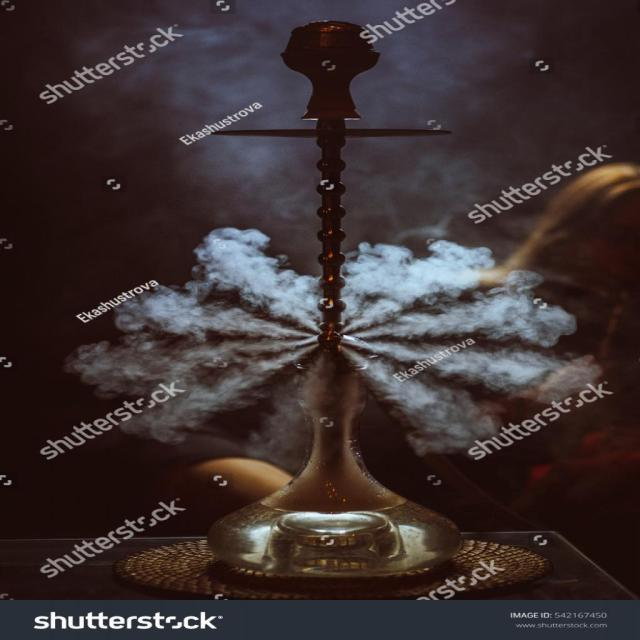smoking: (207, 18, 470, 580)
